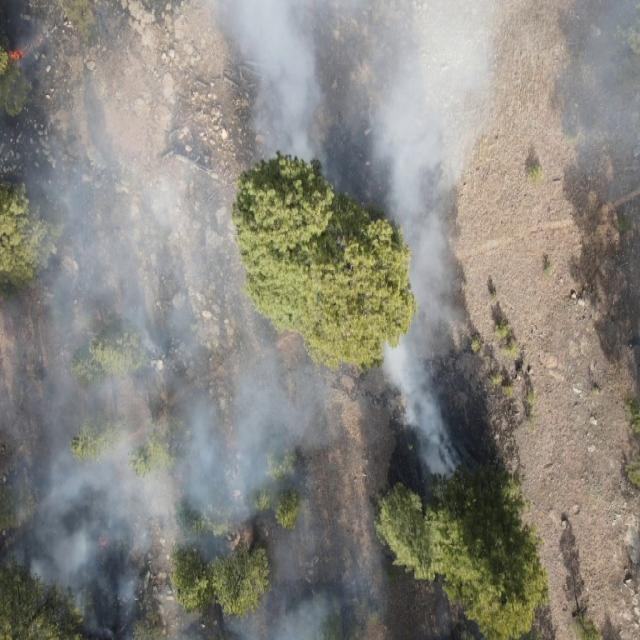fire: (8, 28, 46, 61), (96, 533, 112, 552)
smoke: (0, 0, 375, 640), (375, 0, 470, 482), (552, 0, 640, 238), (470, 0, 517, 158)
